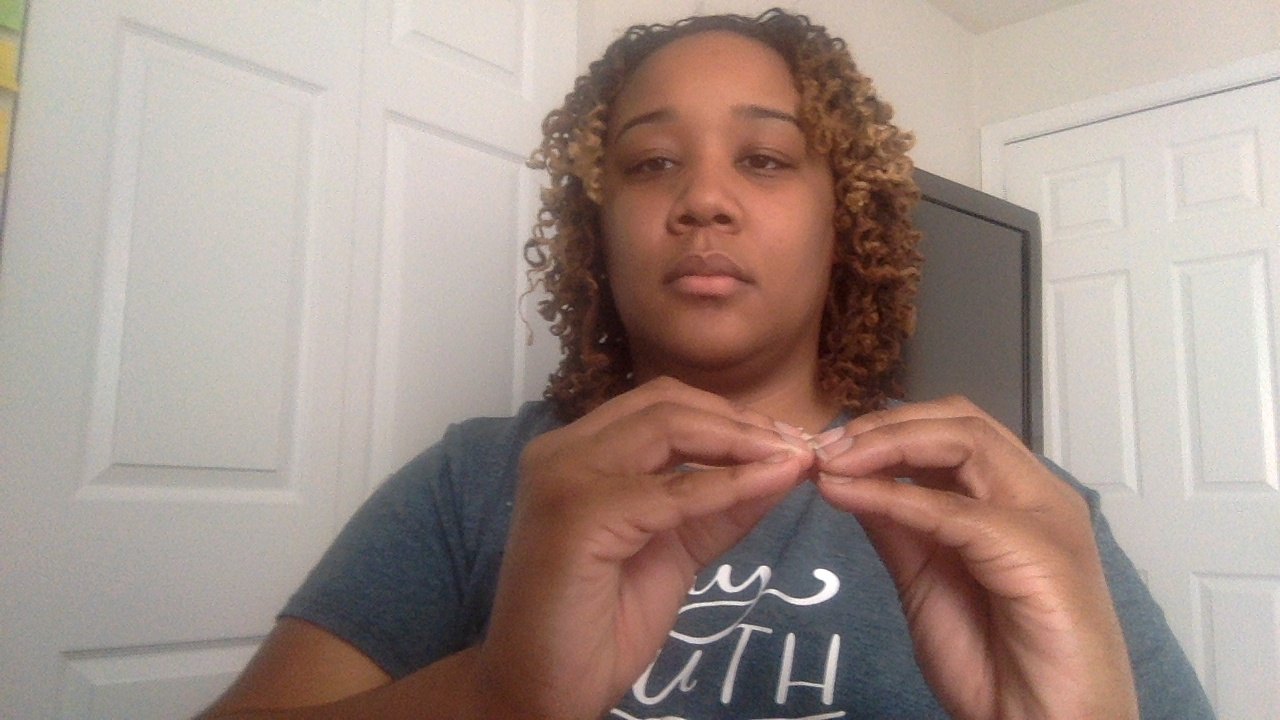more: (496, 377, 1137, 716)
